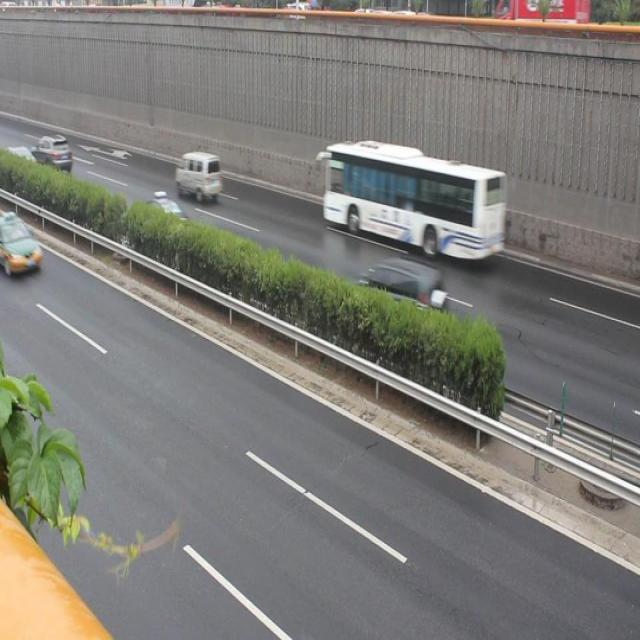car: (360, 255, 452, 332), (1, 208, 46, 280), (144, 190, 188, 240), (31, 132, 73, 176)
truck: (172, 146, 225, 200)
van: (320, 139, 500, 265)
